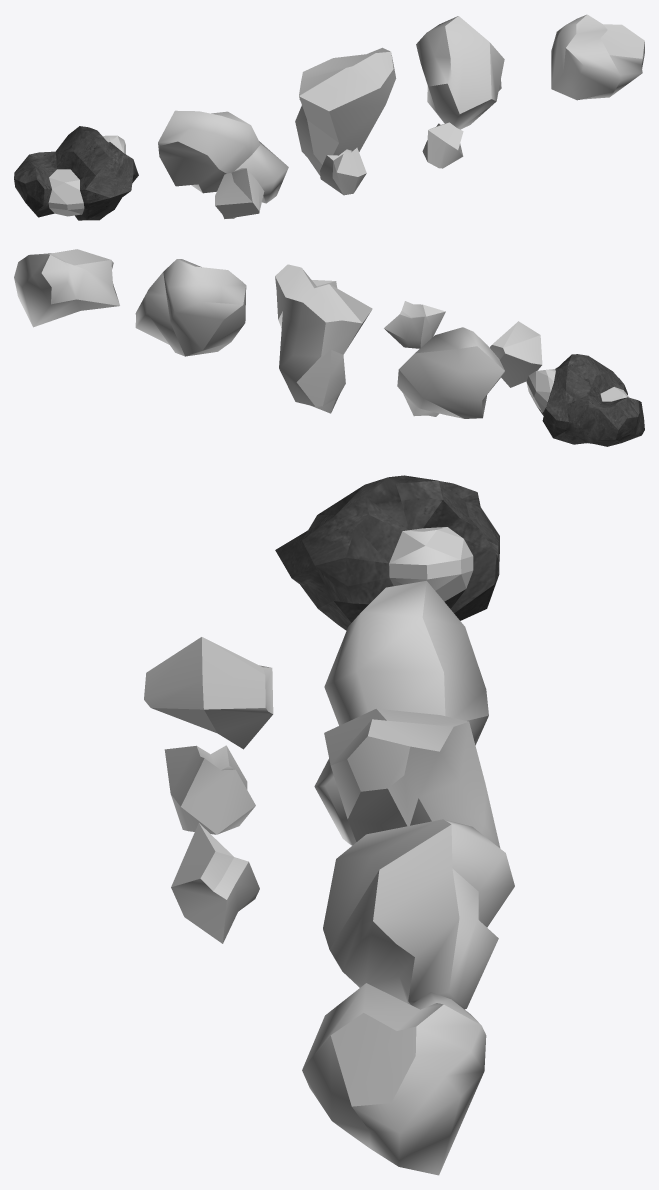
Rendered from rock_crumbs.fbx.
The picture shows the model from 3 angles, top to bottom: view 1: azimuth 30°, elevation 25°; view 2: azimuth 150°, elevation 25°; view 3: azimuth 270°, elevation 25°; orthographic projection. The views are drawn at different scales.
Parts seen in each view (by area): view 1: Rock_Crumb_06, Gem_Rock_Crumb, Rock_Crumb_04, Rock_Crumb_05, Rock_Crumb_07, Rock_Crumb_01, Rock_Crumb_03, Rock_Crumb_02; view 2: Rock_Crumb_06, Rock_Crumb_05, Gem_Rock_Crumb, Rock_Crumb_04, Rock_Crumb_07, Rock_Crumb_01, Rock_Crumb_03; view 3: Rock_Crumb_05, Rock_Crumb_07, Gem_Rock_Crumb, Rock_Crumb_04, Rock_Crumb_06, Rock_Crumb_01, Rock_Crumb_02, Rock_Crumb_03.
Part boxes in pixels (box(x1,y1,x2,y2)): Rock_Crumb_06: box(295, 47, 396, 175); Gem_Rock_Crumb: box(14, 126, 138, 220); Rock_Crumb_04: box(158, 110, 288, 203); Rock_Crumb_05: box(416, 16, 504, 129); Rock_Crumb_07: box(551, 14, 644, 100); Rock_Crumb_01: box(215, 168, 264, 219); Rock_Crumb_03: box(320, 147, 366, 195); Rock_Crumb_02: box(422, 122, 463, 168); Rock_Crumb_06: box(275, 264, 372, 413); Rock_Crumb_05: box(135, 259, 246, 356); Gem_Rock_Crumb: box(526, 354, 644, 446); Rock_Crumb_04: box(397, 327, 504, 418); Rock_Crumb_07: box(14, 249, 119, 327); Rock_Crumb_01: box(489, 321, 542, 387); Rock_Crumb_03: box(384, 301, 445, 348); Rock_Crumb_05: box(323, 819, 514, 1009); Rock_Crumb_07: box(302, 983, 486, 1175); Gem_Rock_Crumb: box(275, 475, 499, 630); Rock_Crumb_04: box(314, 581, 488, 845); Rock_Crumb_06: box(324, 708, 500, 848); Rock_Crumb_01: box(144, 637, 273, 749); Rock_Crumb_02: box(171, 823, 259, 943); Rock_Crumb_03: box(164, 745, 255, 834).
Size of the model in its own units: 1125 by 217 by 290.
